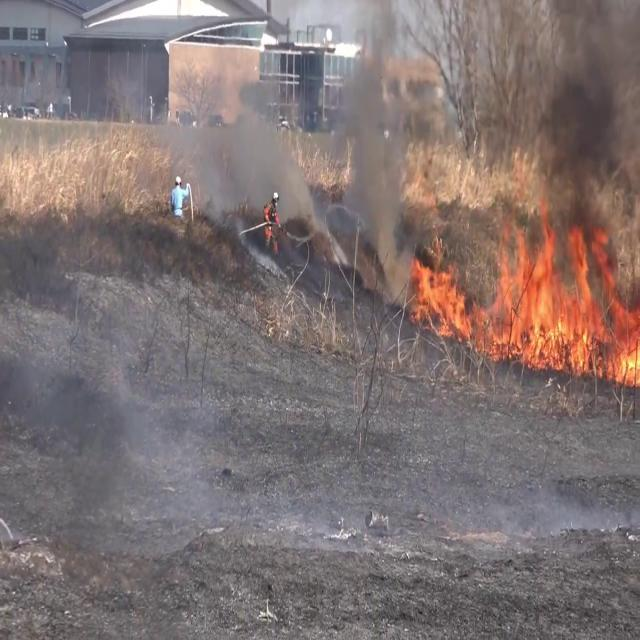Fire: (484, 206, 640, 384), (406, 246, 472, 342)
Smoke: (154, 49, 322, 233), (535, 0, 640, 219), (336, 0, 412, 302)
